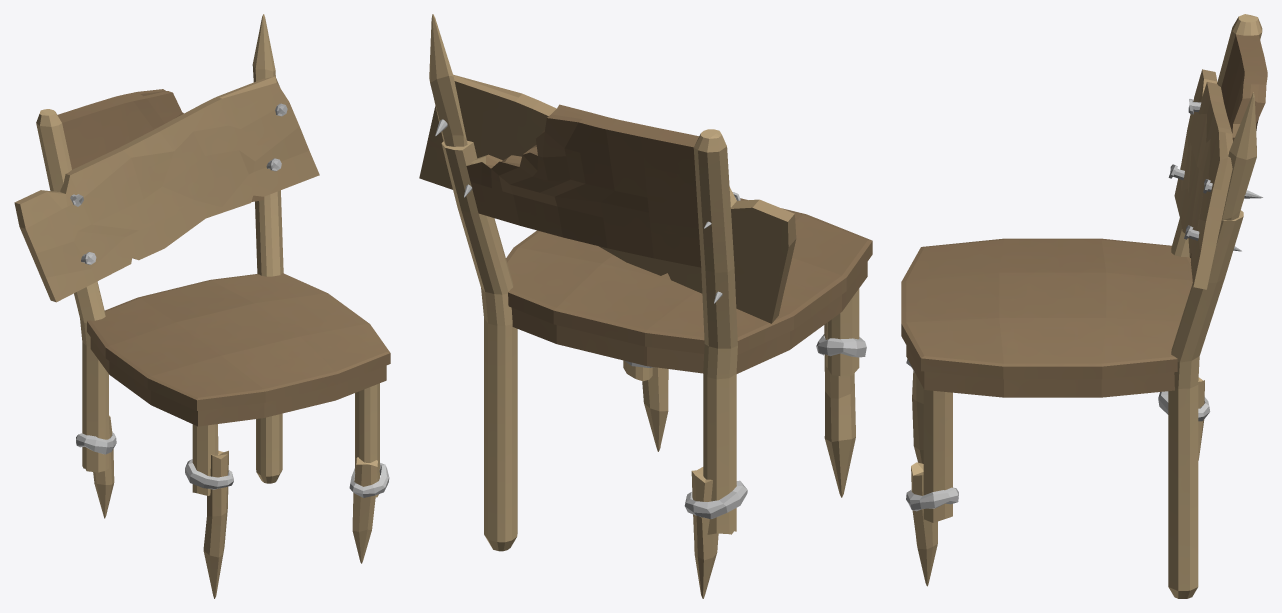
Rendered from chair_repaired_2.glb.
3 views of the same model, side by side, from view 1: azimuth 30°, elevation 25°; view 2: azimuth 150°, elevation 25°; view 3: azimuth 270°, elevation 25° (orthographic). The views are drawn at different scales.
Parts seen in each view (by area): view 1: chair_repaired_2; view 2: chair_repaired_2; view 3: chair_repaired_2.
Part boxes in pixels (x1,y1,x2,y2): chair_repaired_2: (14, 14, 390, 598); chair_repaired_2: (419, 14, 872, 598); chair_repaired_2: (901, 14, 1267, 598).
Bounding box in the file's own units: 0.5916 × 0.8374 × 0.5374.
Materials: 1 (1 with a texture image).
